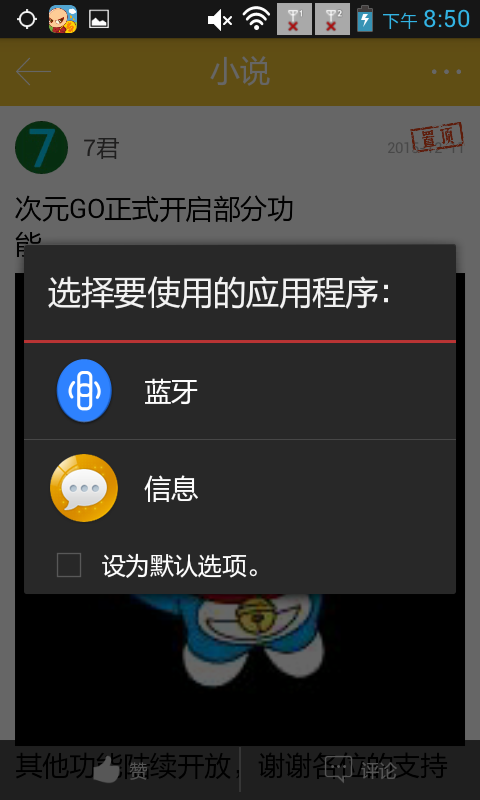alert: (14, 232, 480, 611)
